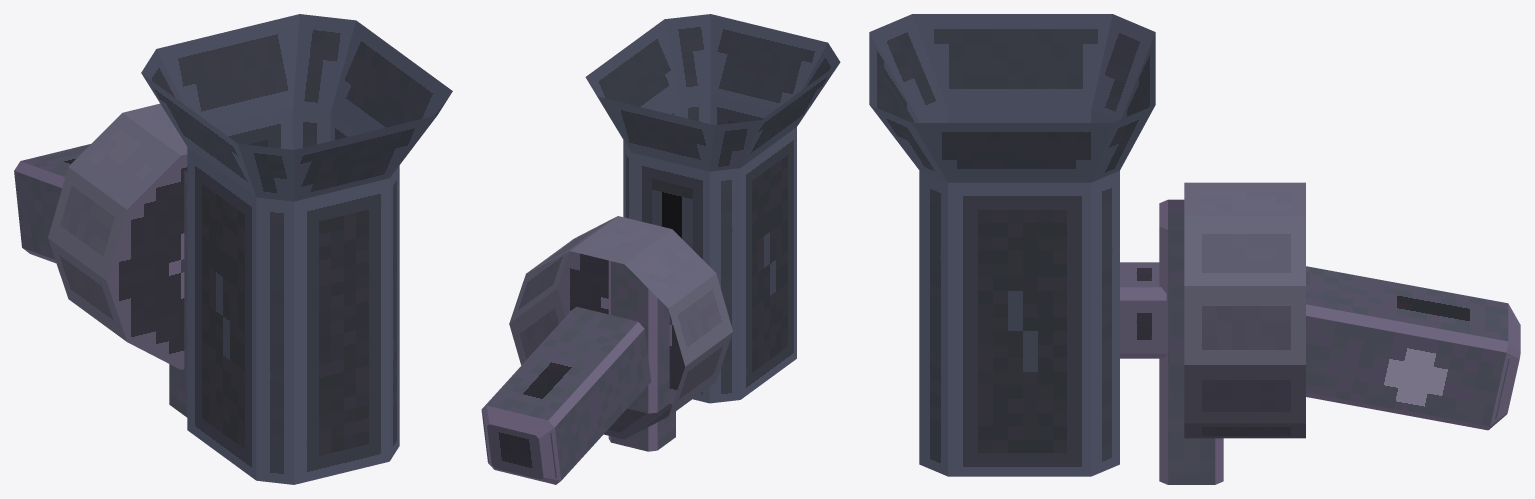
The model's file is riser.glb.
The picture shows the model from 3 angles, left to right: view 1: azimuth 30°, elevation 25°; view 2: azimuth 150°, elevation 25°; view 3: azimuth 270°, elevation 25°; orthographic projection. The views are drawn at different scales.
Visible parts, largest first — view 1: riser_body, riser_knuckle, riser_bar_up, riser_upright; view 2: riser_body, riser_knuckle, riser_bar_up, riser_upright; view 3: riser_body, riser_knuckle, riser_bar_up, riser_upright.
Part boxes in pixels (<box>): riser_body: <box>141,14,452,484</box>; riser_knuckle: <box>48,103,187,369</box>; riser_bar_up: <box>14,144,90,263</box>; riser_upright: <box>169,170,187,417</box>; riser_body: <box>585,14,840,403</box>; riser_knuckle: <box>509,216,733,439</box>; riser_bar_up: <box>481,306,651,484</box>; riser_upright: <box>608,260,675,451</box>; riser_body: <box>869,14,1155,476</box>; riser_knuckle: <box>1184,182,1305,438</box>; riser_bar_up: <box>1306,266,1520,430</box>; riser_upright: <box>1120,199,1223,484</box>.
Bounding box in the file's own units: 0.36 × 0.6185 × 0.9095.
1 material, 1 textured.
